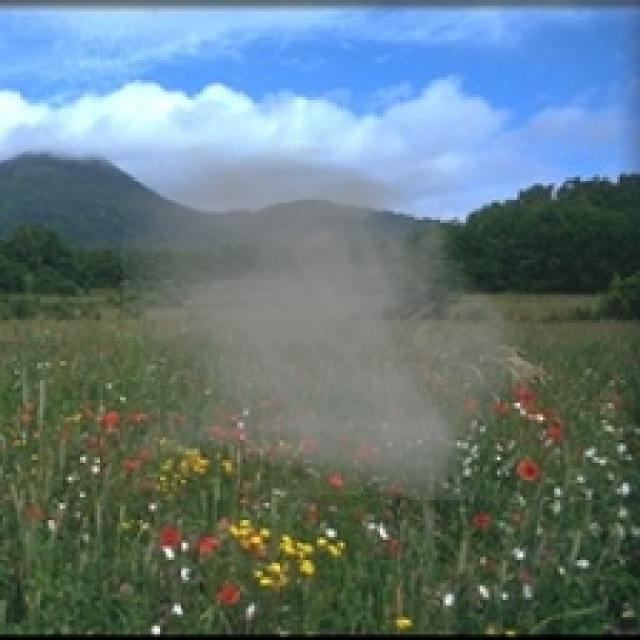smoke: (123, 143, 543, 500)
